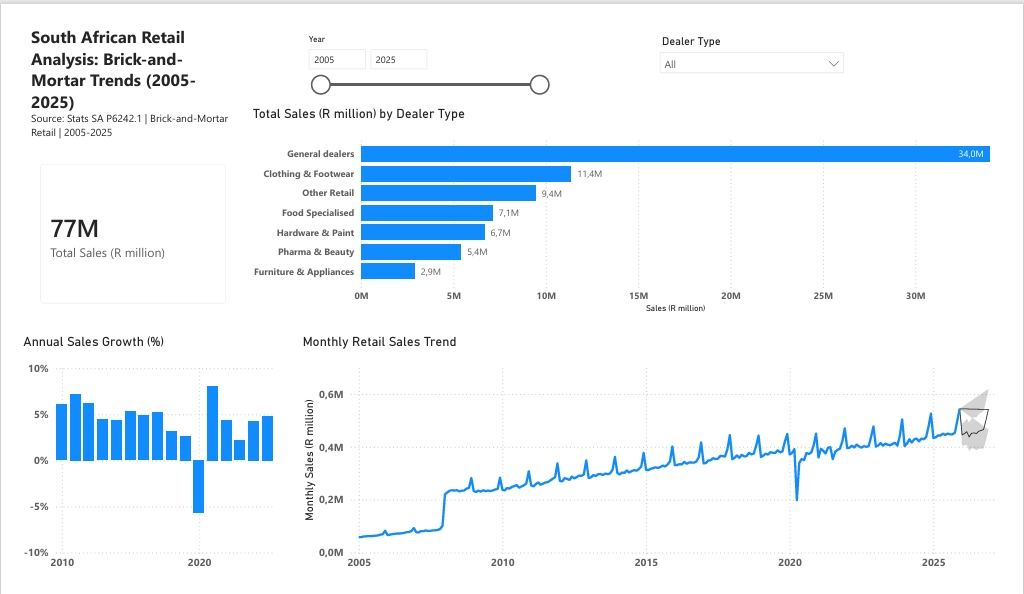

What the dashboard file says about the page in this screenshot:
{"tool":"powerbi","page":{"name":"Overview","canvas":[1280,720],"ordinal":0},"visuals":[{"type":"clusteredBarChart","fields":{"Category":["Retail trade sales from 2002.Dealer Type"],"Y":["Retail trade sales from 2002.Total Sales"]},"box":[298.1,109.4,980.6,273.6],"z":0},{"type":"lineChart","title":"Monthly Retail Sales Trend","fields":{"Category":["Retail trade sales from 2002.Date.Variation.Date Hierarchy.Year","Retail trade sales from 2002.Date.Variation.Date Hierarchy.Quarter","Retail trade sales from 2002.Date.Variation.Date Hierarchy.Month","Retail trade sales from 2002.Date.Variation.Date Hierarchy.Day"],"Y":["Retail trade sales from 2002.Total Sales"]},"box":[362.9,404.6,917.3,315.4],"z":1000},{"type":"textbox","box":[10.1,0,275.4,168.1],"z":2000},{"type":"columnChart","title":"Annual Sales Growth (%)","fields":{"Y":["Retail trade sales from 2002.YoY Growth %"],"Category":["Retail trade sales from 2002.year"]},"box":[0,404.6,344.2,315.4],"z":3000},{"type":"cardVisual","fields":{"Data":["Retail trade sales from 2002.Total Sales"]},"box":[10.1,168.5,275,214.6],"z":4000},{"type":"slicer","fields":{"Values":["Retail trade sales from 2002.year"]},"box":[362.9,11.5,334.1,97.9],"z":4001},{"type":"slicer","fields":{"Values":["Retail trade sales from 2002.Dealer Type"]},"box":[822.2,11.5,259.2,72],"z":4002}]}

Visuals, with their boxes on the page's 1280x720 design canvas (x1, y1, x2, y2). These are canvas units, not pixel positions in the 1024x594 screenshot, which may show the page scaled, cropped or inside an application window:
clusteredBarChart - Retail trade sales from 2002.Dealer Type x Retail trade sales from 2002.Total Sales: [298, 109, 1279, 383]
"Monthly Retail Sales Trend" lineChart: [363, 405, 1280, 720]
textbox: [10, 0, 286, 168]
"Annual Sales Growth (%)" columnChart: [0, 405, 344, 720]
cardVisual - Retail trade sales from 2002.Total Sales: [10, 168, 285, 383]
slicer - Retail trade sales from 2002.year: [363, 12, 697, 109]
slicer - Retail trade sales from 2002.Dealer Type: [822, 12, 1081, 84]
